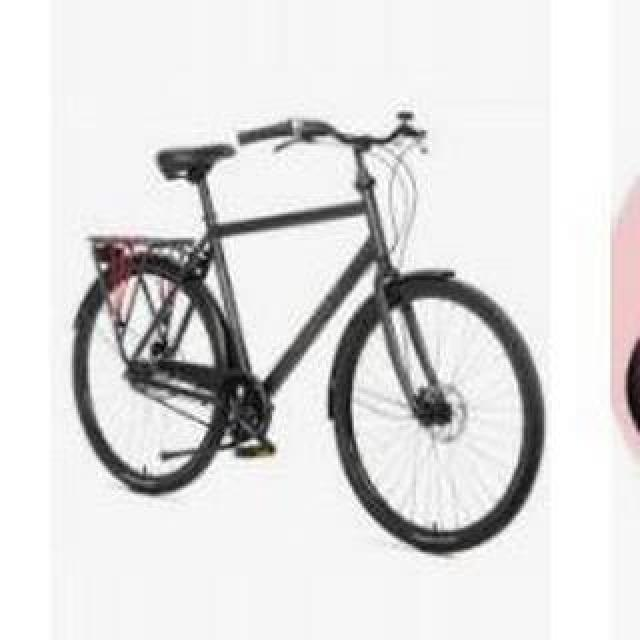Person: (69, 110, 545, 558)
